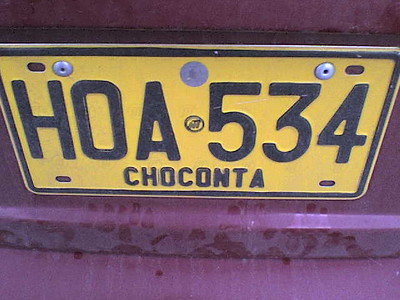placa_carro: (1, 28, 399, 215)
